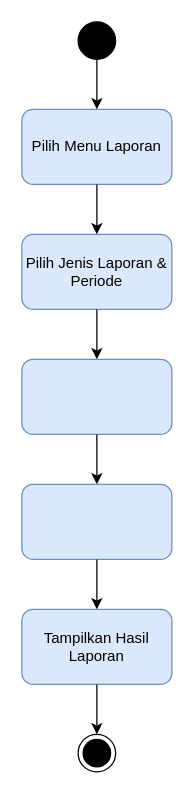
Image size: 194x794. Some labels were removed from this diagram. The centre of each missing label's shape, as x and y in pixels:
"Klik Tombol Filter" goes at point (96, 396).
"Sistem Tarik Data dari DB" goes at point (96, 521).
